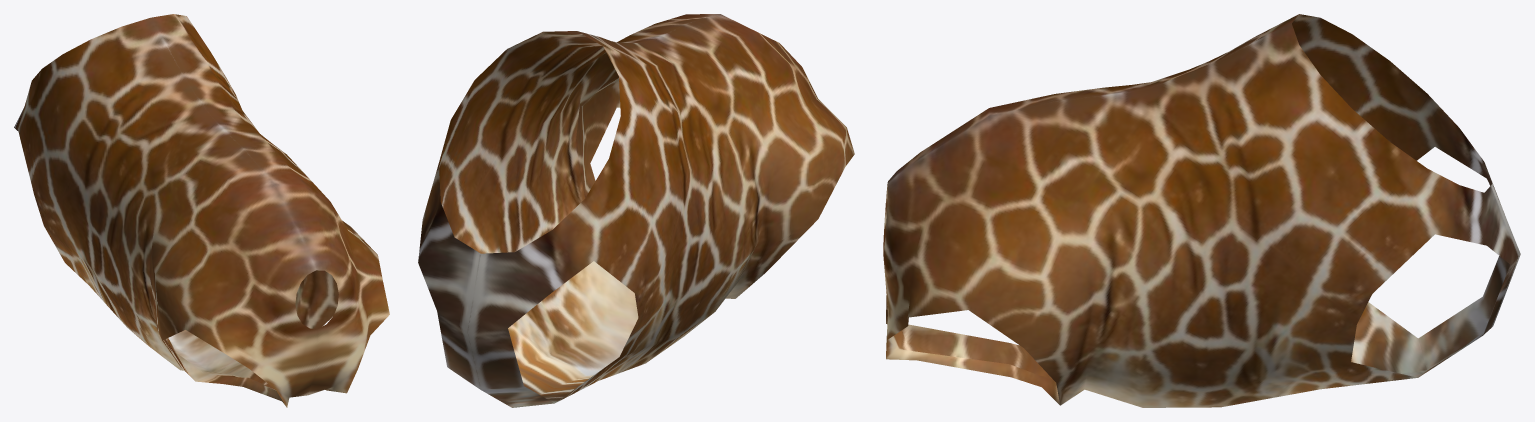
The model's file is j_body.obj.
The picture shows the model from 3 angles, left to right: view 1: azimuth 30°, elevation 25°; view 2: azimuth 150°, elevation 25°; view 3: azimuth 270°, elevation 25°; orthographic projection. The views are drawn at different scales.
Parts seen in each view (by area): view 1: 1.006; view 2: 1.006; view 3: 1.006.
Part boxes in pixels (x1,y1,x2,y2): 1.006: [14, 14, 389, 407]; 1.006: [418, 14, 854, 407]; 1.006: [883, 14, 1520, 407].
Bounding box in the file's own units: 1.47 × 2.22 × 3.39.
1 material, 1 textured.
